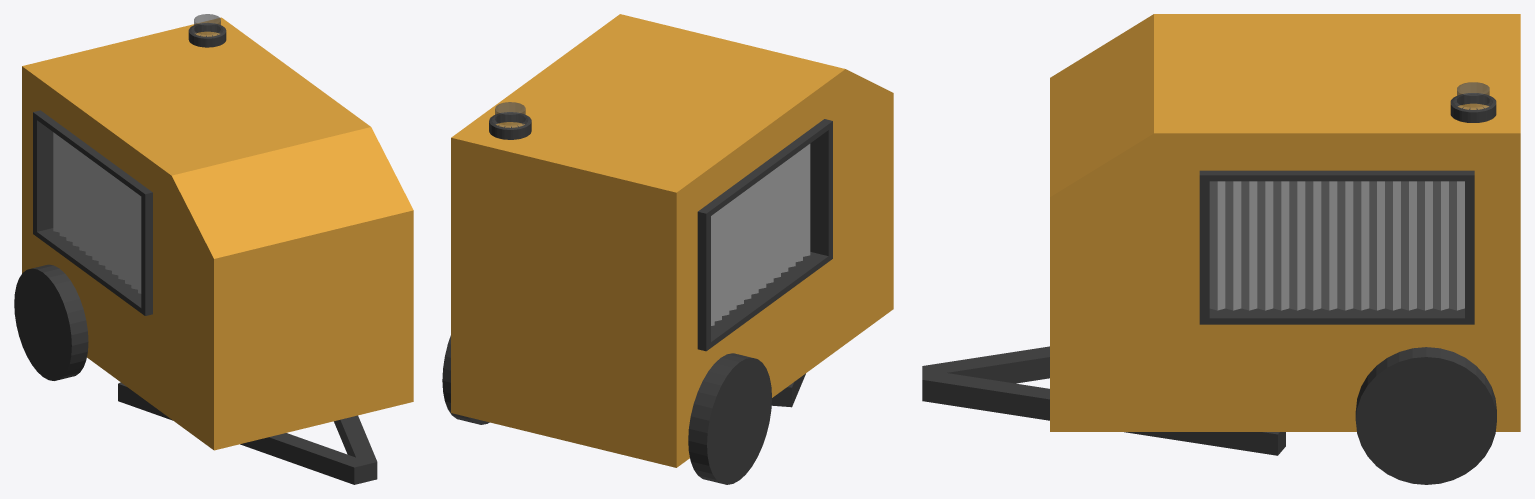
The model's file is Generator.fbx.
3 views of the same model, side by side, from view 1: azimuth 30°, elevation 25°; view 2: azimuth 150°, elevation 25°; view 3: azimuth 270°, elevation 25° (orthographic). The views are drawn at different scales.
Visible parts, largest first — view 1: Cube.001; view 2: Cube.001; view 3: Cube.001.
Part boxes in pixels (left/top/right/bottom): Cube.001: left=14, top=14, right=413, bottom=484; Cube.001: left=442, top=14, right=893, bottom=484; Cube.001: left=922, top=14, right=1520, bottom=484.
Size of the model in its own units: 141 by 172 by 254.
